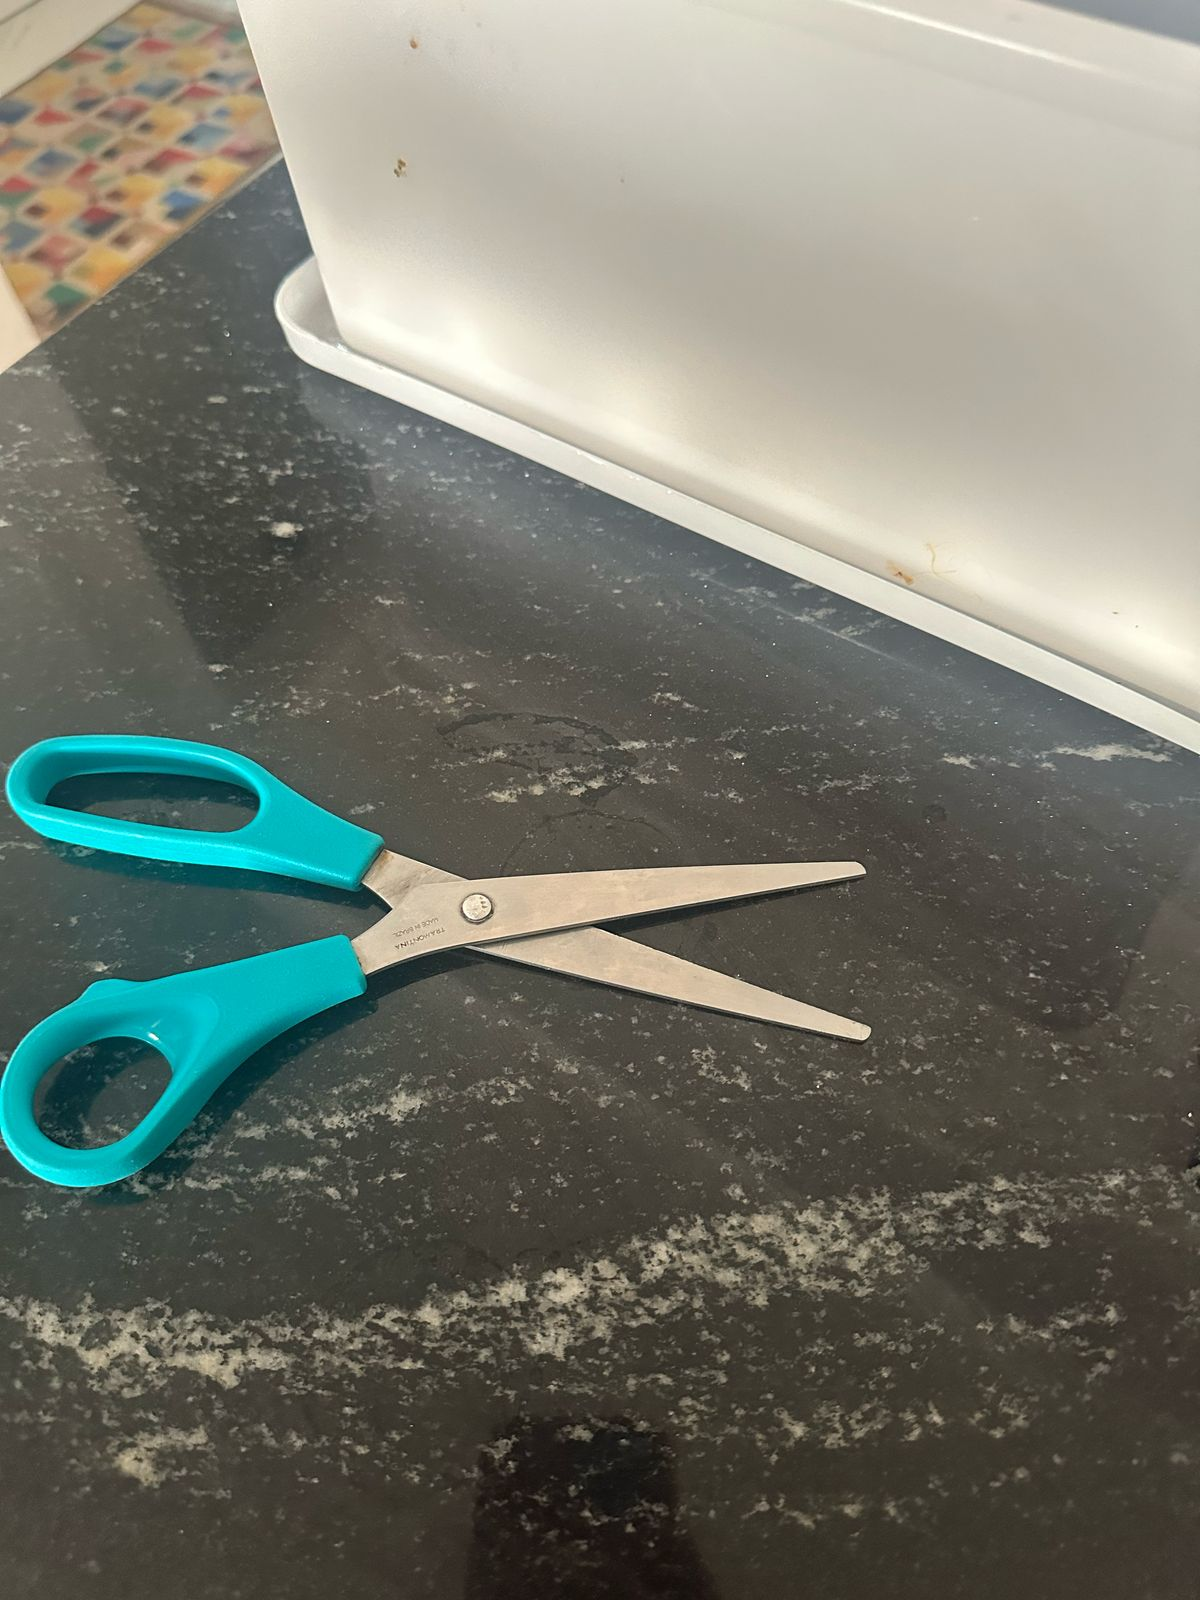tesoura: (9, 724, 881, 1188)
